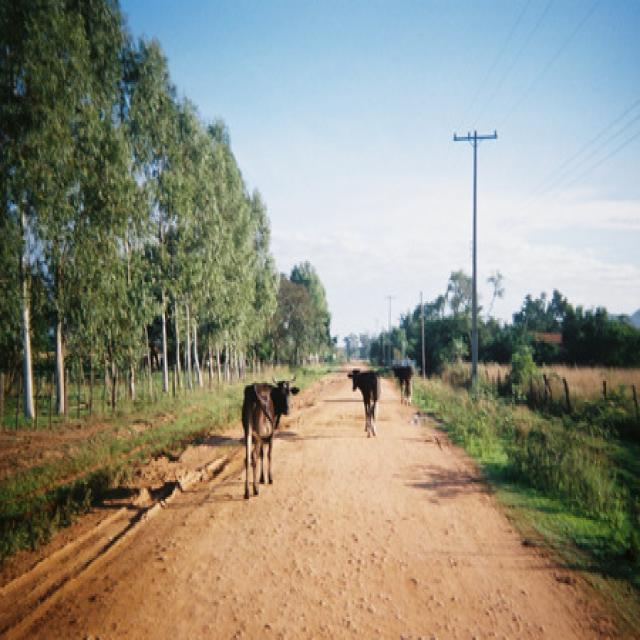Clean road: (3, 375, 640, 640)
